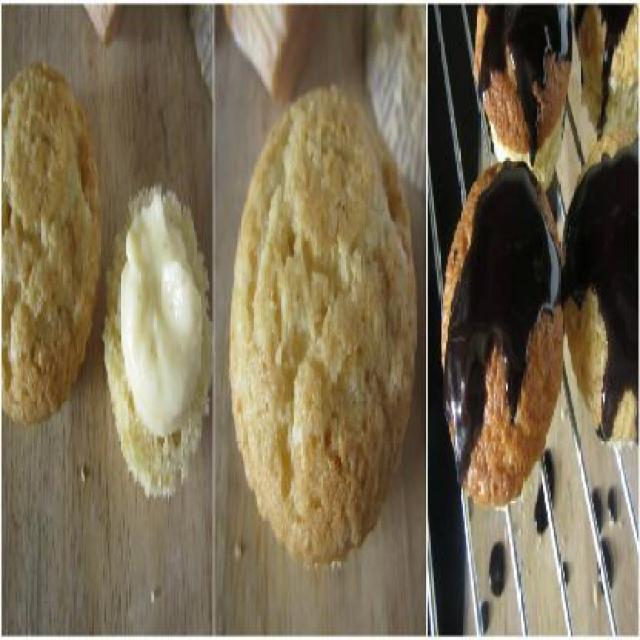Cookie: (214, 90, 426, 575), (438, 154, 564, 517), (0, 59, 103, 430), (100, 178, 214, 498), (560, 132, 640, 452), (471, 0, 574, 192), (577, 0, 640, 137)
